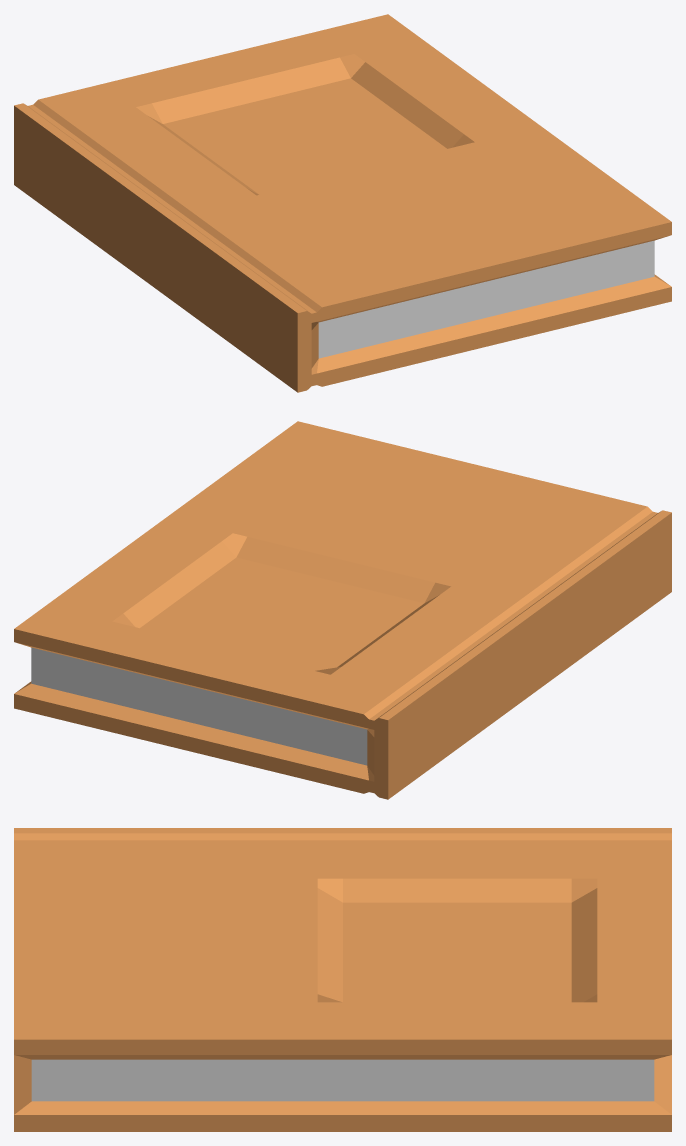
The model's file is book.glb.
3 renders of one model, top to bottom at view 1: azimuth 30°, elevation 25°; view 2: azimuth 150°, elevation 25°; view 3: azimuth 270°, elevation 25°, orthographic. The views are drawn at different scales.
Visible parts, largest first — view 1: Cube.001; view 2: Cube.001; view 3: Cube.001.
Boxes of the visible parts, box(x1,y1,x2,y2) form: Cube.001: box(14, 14, 671, 392); Cube.001: box(14, 421, 671, 799); Cube.001: box(14, 828, 671, 1131).
Bounding box in the file's own units: 0.6475 × 0.1315 × 0.8507.
